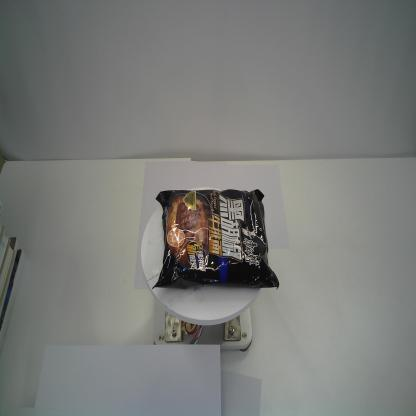Instant Noodles: (152, 187, 280, 291)
